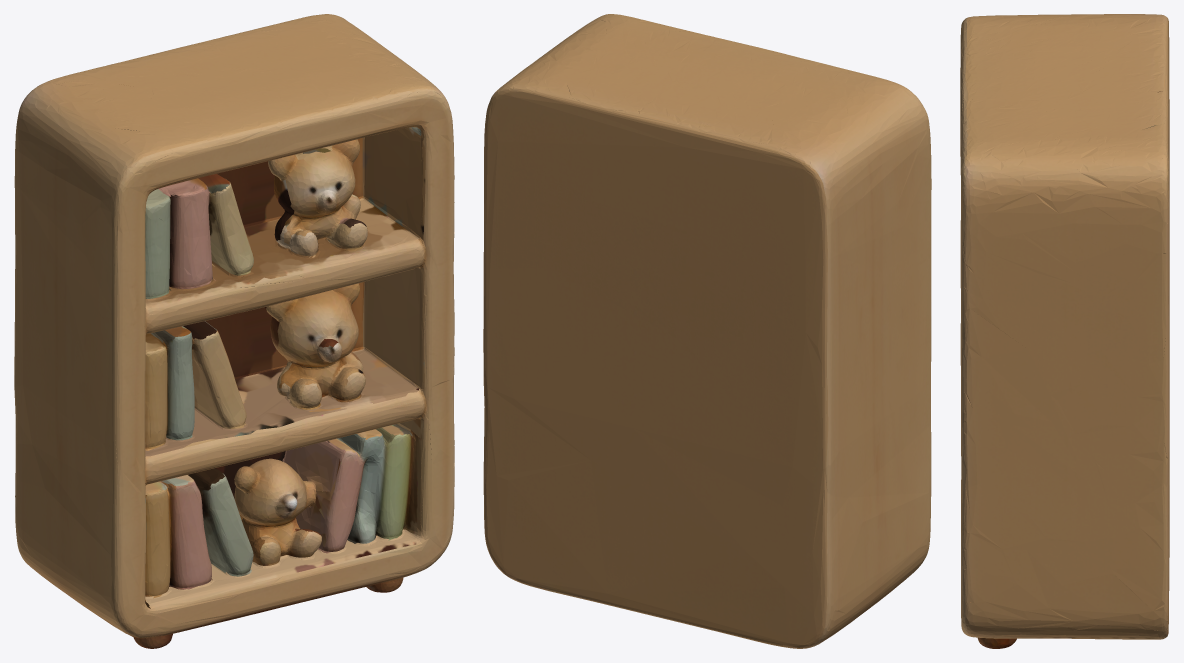
3 views of the same model, side by side, from view 1: azimuth 30°, elevation 25°; view 2: azimuth 150°, elevation 25°; view 3: azimuth 270°, elevation 25° (orthographic).
Visible parts, largest first — view 1: world; view 2: world; view 3: world.
Boxes of the visible parts, left/top/right/bottom form: world: left=14, top=14, right=454, bottom=648; world: left=483, top=14, right=931, bottom=648; world: left=960, top=14, right=1169, bottom=648.
Size of the model in its own units: 1.4 by 1.99 by 0.7458.
1 material, 1 textured.
